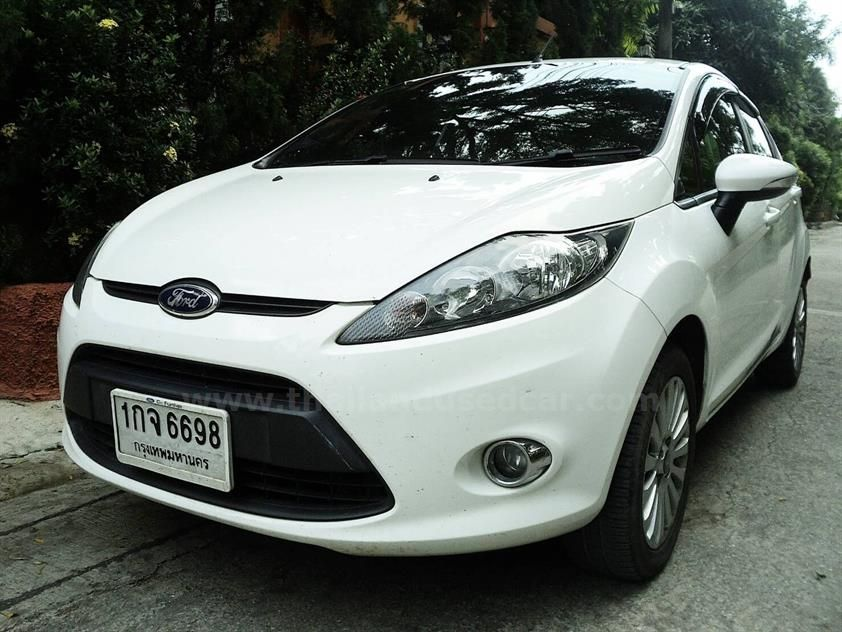sedan: (52, 52, 808, 585)
